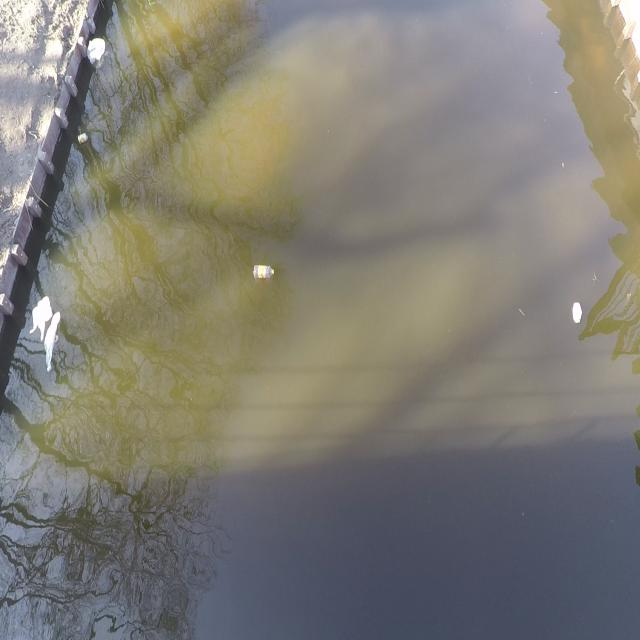Bouteille plastique: (250, 262, 277, 283)
